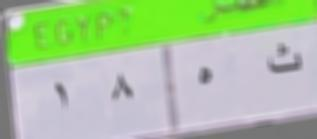1: (48, 75, 78, 115)
8: (106, 72, 144, 110)
haa: (191, 62, 225, 92)
thaa: (262, 37, 306, 82)
